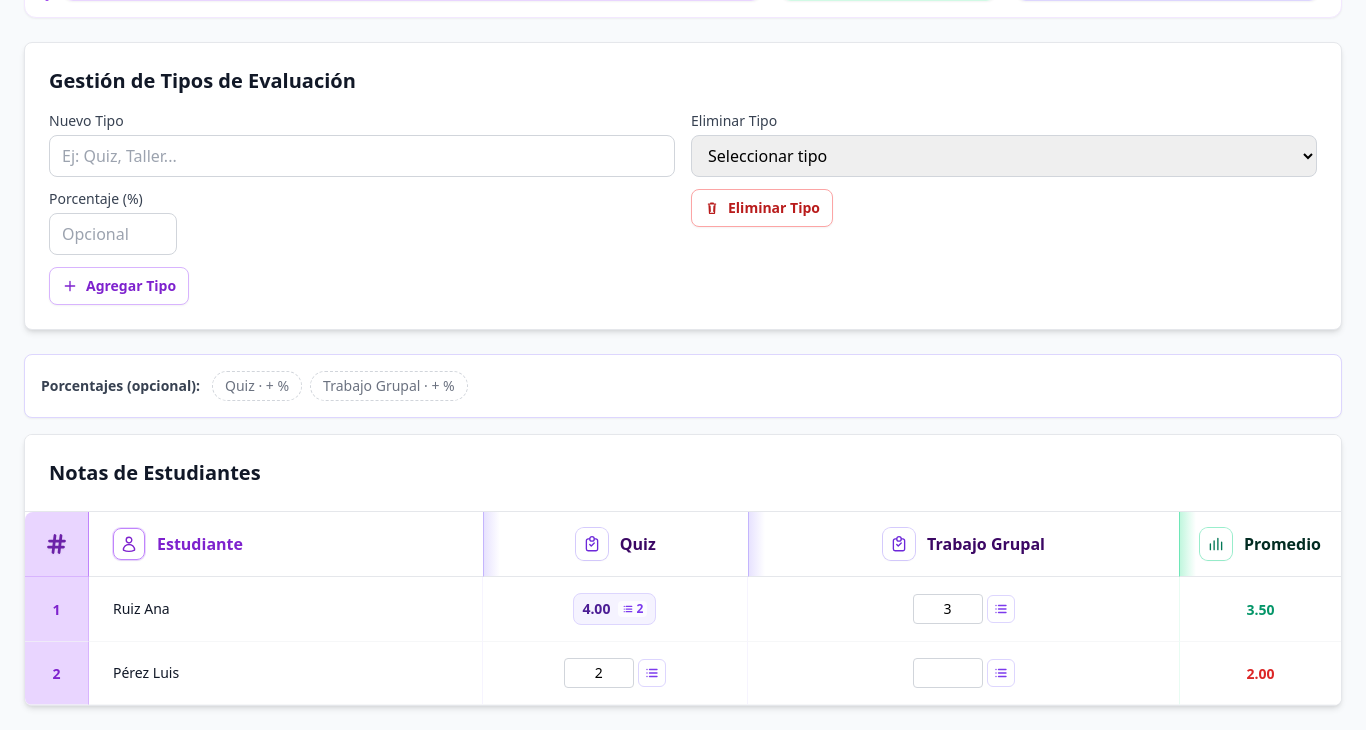
subnotas en la planilla (paso A4) › Siguiente guarda lo escrito y pasa al estudiante de abajo
(page scrolled)
Expected: the text "Ruiz Ana" is shown, [113, 599, 170, 618]
Click the button named "Quiz de Ruiz Ana: 4.00" at (615, 609), box [573, 593, 656, 625]
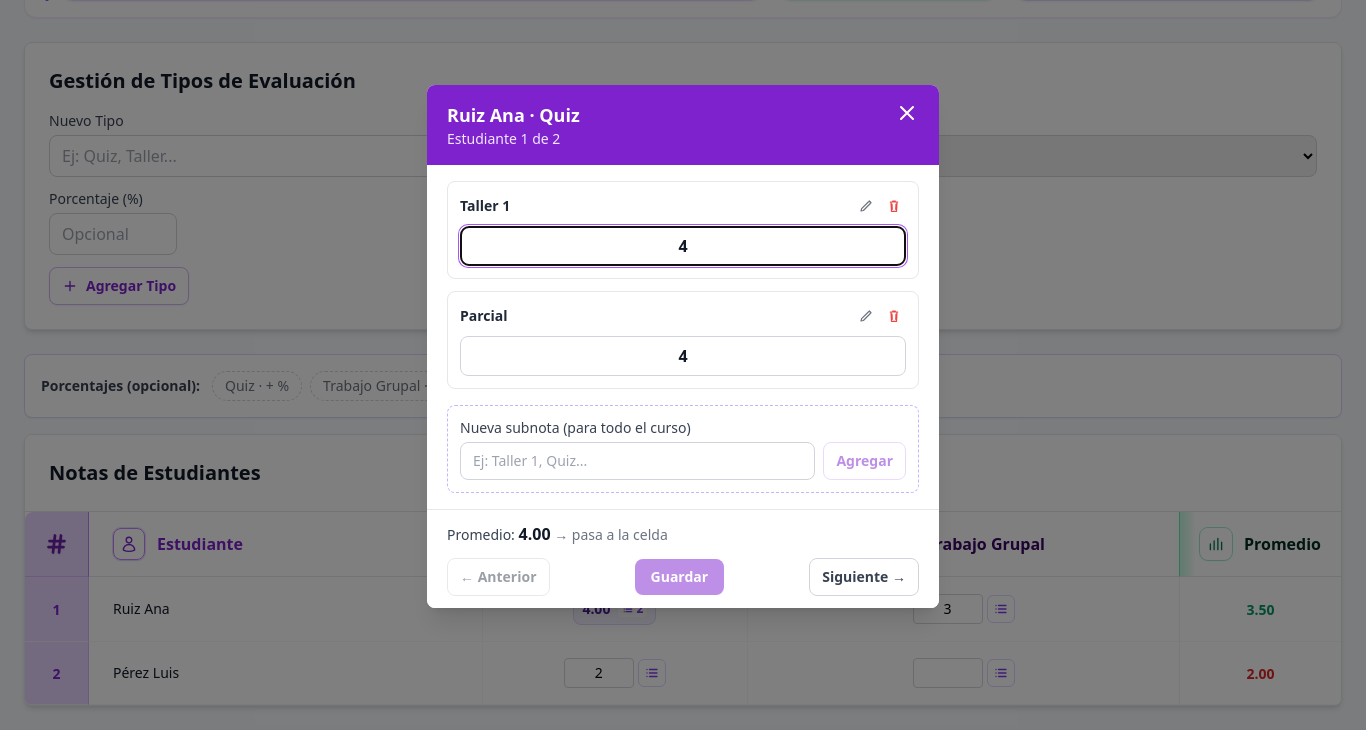
Replace the text in the field labelled "Parcial" with "5" at (683, 356), box [460, 336, 906, 376]
Then press Enter
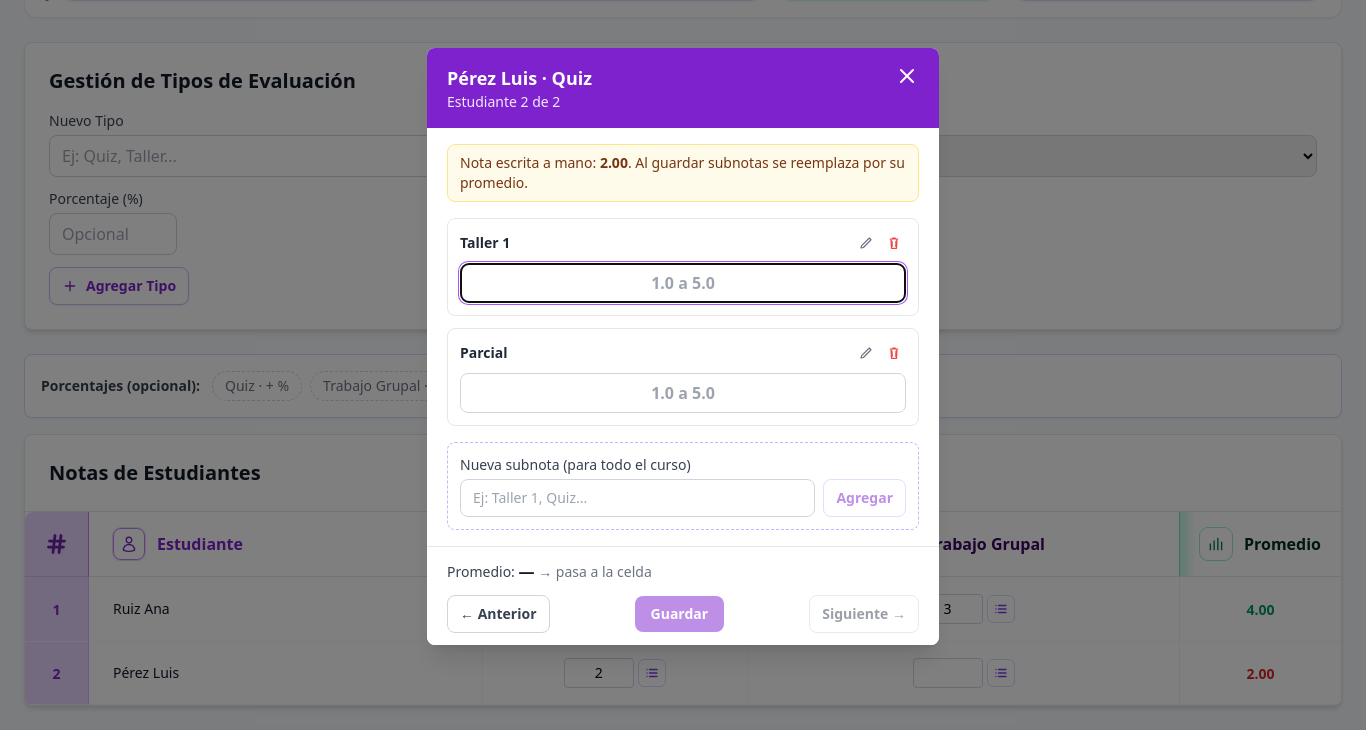
Expected: the button named "Quiz de Ruiz Ana: 5.00" is shown, [573, 593, 656, 625]
Expected: the dialog "Pérez Luis · Quiz" is shown, [427, 48, 939, 644]
